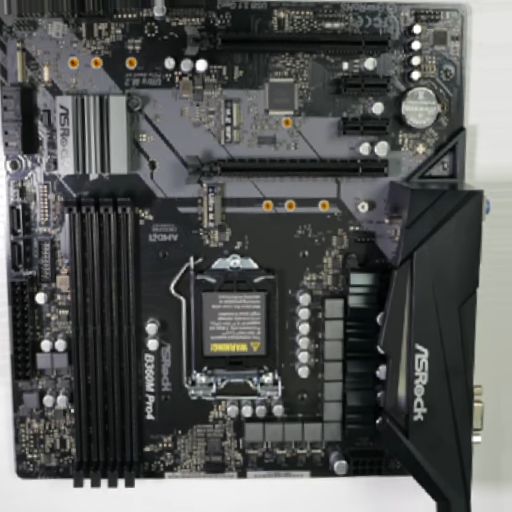CPU: (189, 254, 280, 402)
GPU: (185, 24, 392, 57), (182, 156, 389, 185)
MOTHERBOARD: (12, 3, 471, 480)
RAM: (65, 196, 141, 491)
SSD: (220, 98, 239, 142), (203, 184, 219, 230), (7, 40, 22, 84)
